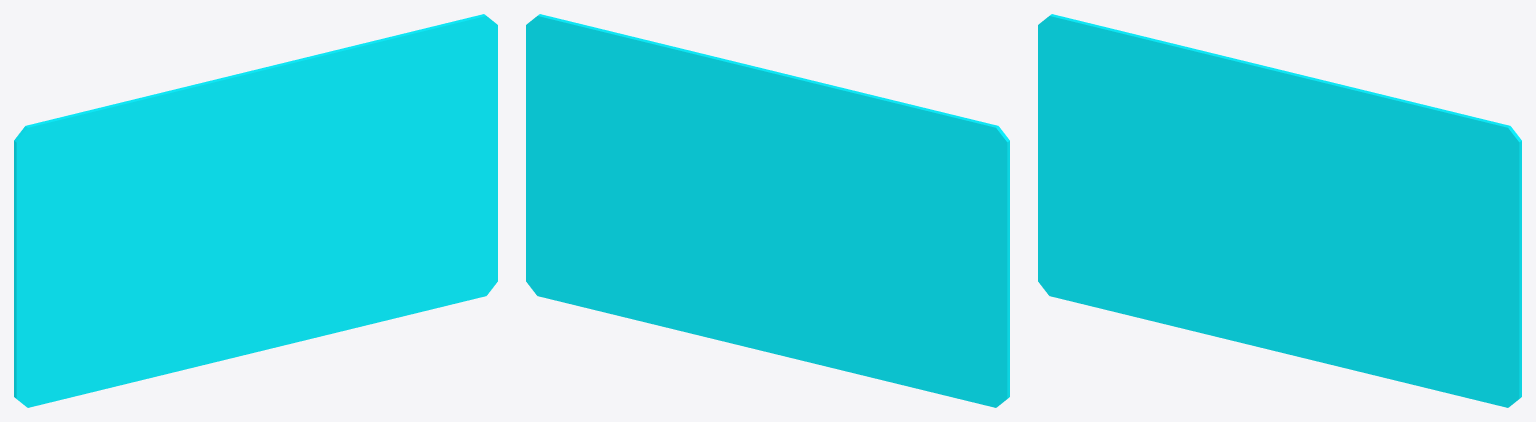
The model's file is SM_Hud_Screen_Backing_01.glb.
3 views of the same model, side by side, from view 1: azimuth 30°, elevation 25°; view 2: azimuth 150°, elevation 25°; view 3: azimuth 330°, elevation 25° (orthographic).
Visible parts, largest first — view 1: SM_Hud_Screen_Backing_01; view 2: SM_Hud_Screen_Backing_01; view 3: SM_Hud_Screen_Backing_01.
Part boxes in pixels (box(x1,y1,x2,y2)): SM_Hud_Screen_Backing_01: box(14, 14, 497, 407); SM_Hud_Screen_Backing_01: box(526, 14, 1009, 407); SM_Hud_Screen_Backing_01: box(1038, 14, 1521, 407).
Bounding box in the file's own units: 1.2 × 0.6673 × 0.0111.
